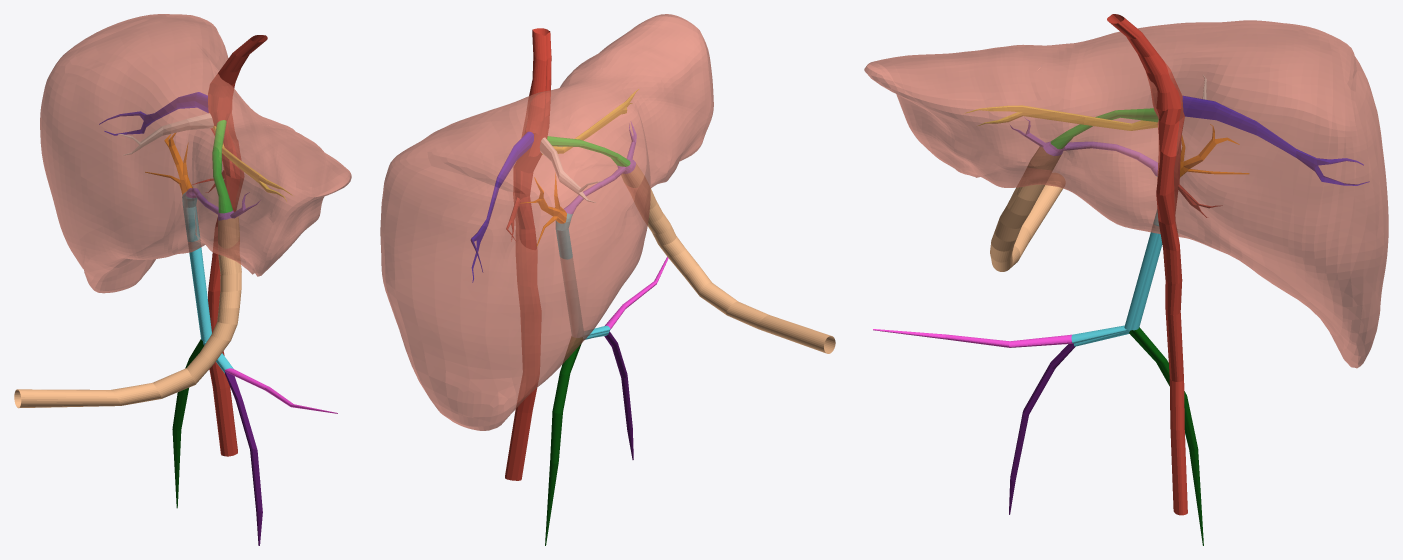
The model's file is Labelliver.glb.
The picture shows the model from 3 angles, left to right: view 1: azimuth 30°, elevation 25°; view 2: azimuth 150°, elevation 25°; view 3: azimuth 270°, elevation 25°; orthographic projection. The views are drawn at different scales.
Visible parts, largest first — view 1: LIVER, VEINS; view 2: LIVER, VEINS; view 3: LIVER, VEINS.
Boxes of the visible parts, x1,y1,x2,y2 form: LIVER: (40,14,351,293); VEINS: (14,35,337,545); LIVER: (380,14,713,430); VEINS: (470,28,835,545); LIVER: (864,20,1388,368); VEINS: (873,14,1369,545).
Bounding box in the file's own units: 52.32 × 73.68 × 63.55.
